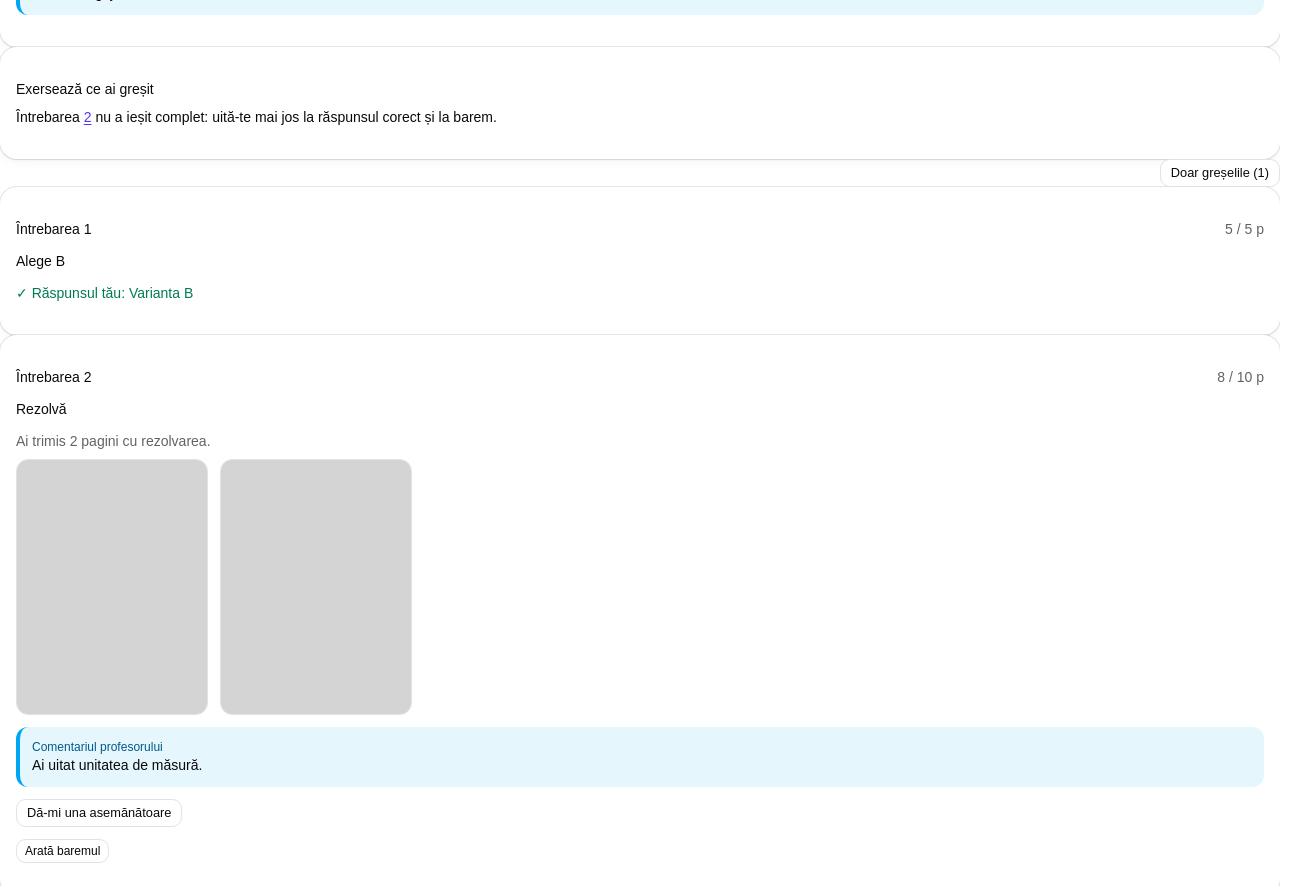
Test: AttemptResultView › reveals the barem only when asked
The width and height of the screenshot is (1292, 886).
(page scrolled)
Expected: the text "x1 = 2" is not shown
Step 1. Click the button "Arată baremul" → (63, 851), box x1=16 y1=839 x2=109 y2=863
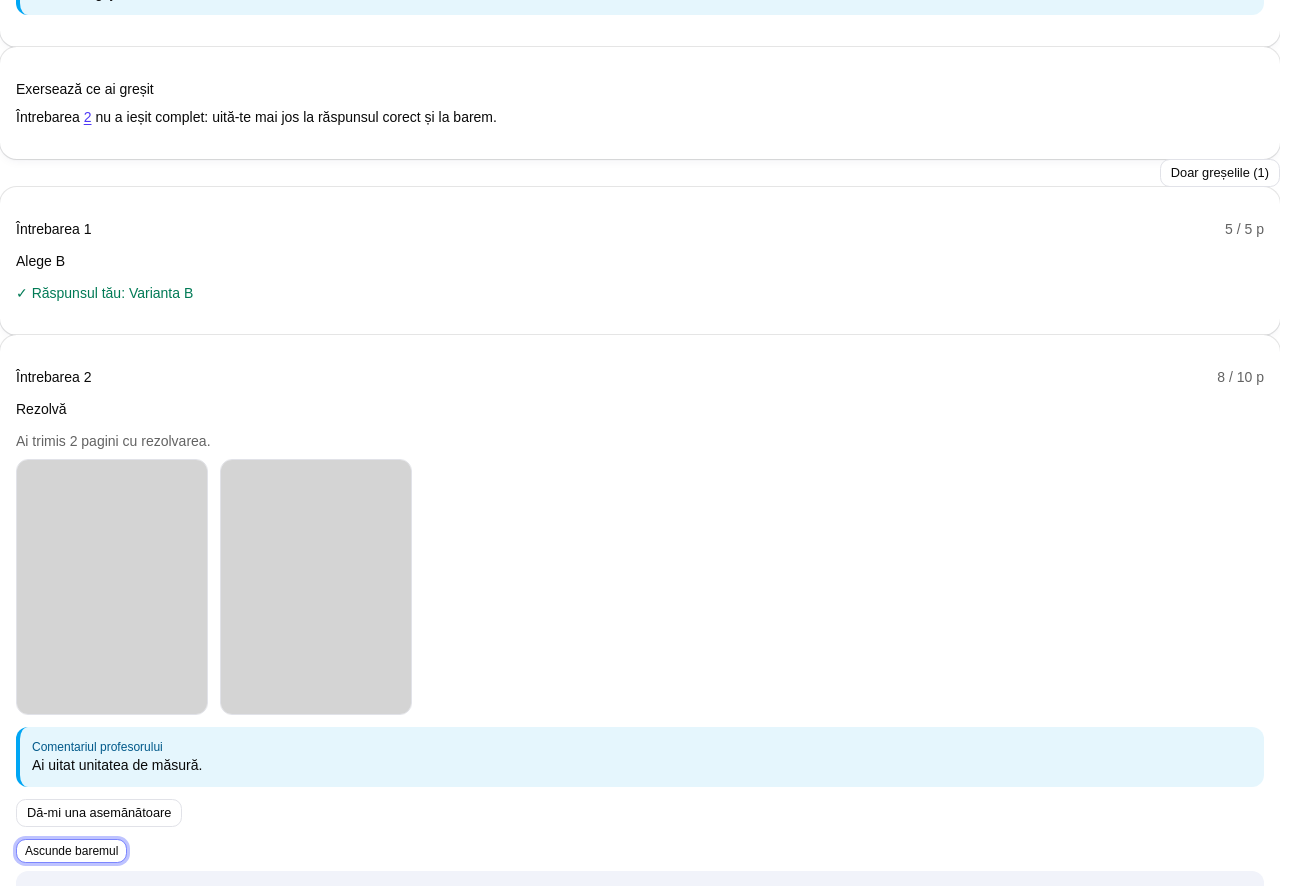
Expected: the button "Ascunde baremul" is shown, x1=16 y1=839 x2=127 y2=863
